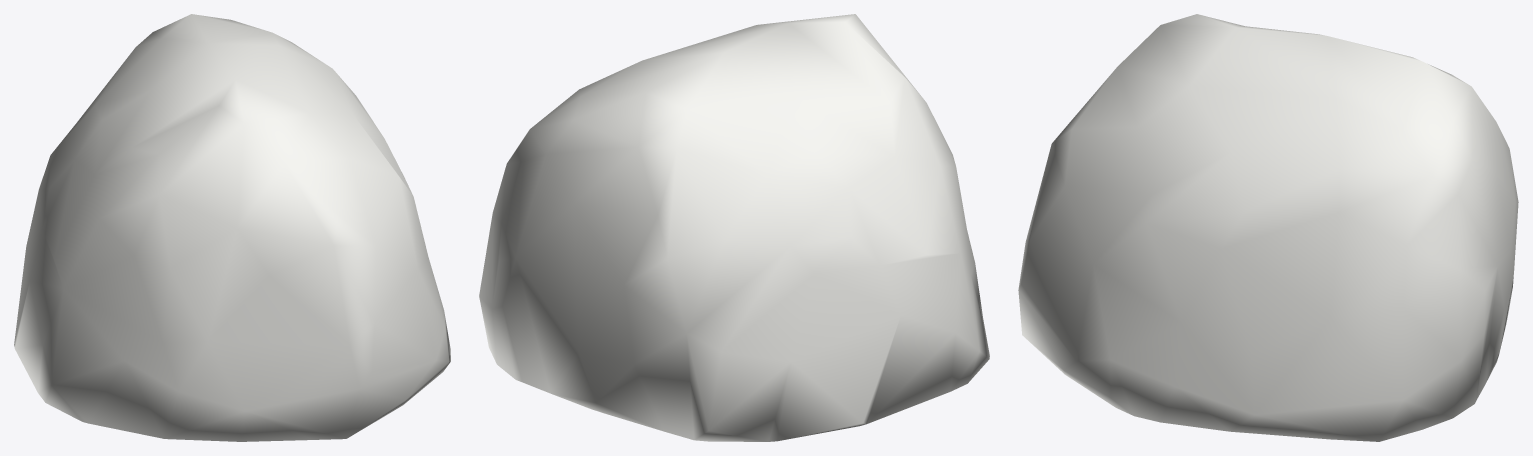
Rendered from monte_neve_natal_4_pacote.glb.
3 views of the same model, side by side, from view 1: azimuth 30°, elevation 25°; view 2: azimuth 150°, elevation 25°; view 3: azimuth 270°, elevation 25° (orthographic). The views are drawn at different scales.
Parts seen in each view (by area): view 1: monte_neve_natal_4_pacote; view 2: monte_neve_natal_4_pacote; view 3: monte_neve_natal_4_pacote.
Part boxes in pixels (box(x1,y1,x2,y2)): monte_neve_natal_4_pacote: box(14, 14, 450, 441); monte_neve_natal_4_pacote: box(479, 14, 989, 441); monte_neve_natal_4_pacote: box(1018, 14, 1518, 441).
Size of the model in its own units: 0.6528 by 0.4497 by 0.6729.
Materials: 1 (1 with a texture image).
